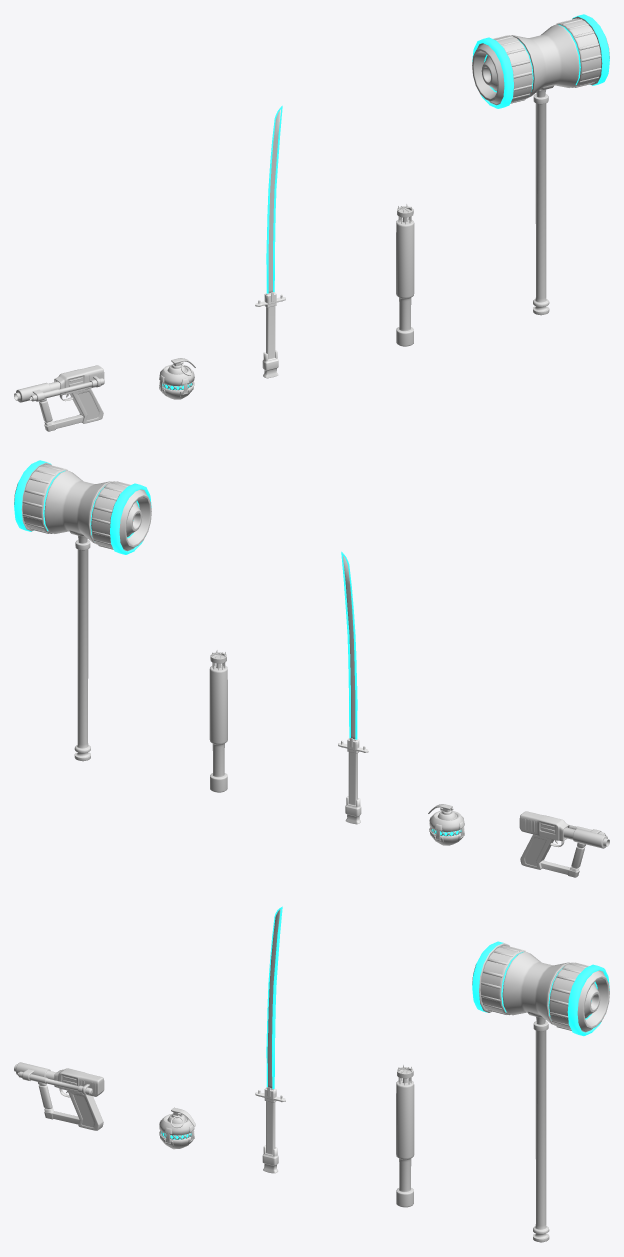
File: rpg_weapons.fbx
The picture shows the model from 3 angles, top to bottom: view 1: azimuth 30°, elevation 25°; view 2: azimuth 150°, elevation 25°; view 3: azimuth 330°, elevation 25°; orthographic projection.
Visible parts, largest first — view 1: Hammer_Head, Hammer_Handle, Hammer_Accents, Baton, LaserGun_Base, Katana_Handle, Katana_Outline, Katana_Blade, LaserGun_Barrel, Grenade; view 2: Hammer_Head, Hammer_Handle, Hammer_Accents, LaserGun_Base, Baton, Katana_Handle, Katana_Outline, Katana_Blade, Grenade, LaserGun_Barrel; view 3: Hammer_Head, Hammer_Handle, Hammer_Accents, Baton, LaserGun_Base, Katana_Handle, Katana_Outline, Katana_Blade, Grenade, LaserGun_Barrel.
Boxes of the visible parts, left/top/right/bottom form: Hammer_Head: left=472, top=18, right=609, bottom=105; Hammer_Handle: left=533, top=89, right=549, bottom=315; Hammer_Accents: left=472, top=14, right=609, bottom=108; Baton: left=396, top=206, right=414, bottom=346; LaserGun_Base: left=38, top=365, right=104, bottom=431; Katana_Handle: left=255, top=292, right=285, bottom=378; Katana_Outline: left=266, top=105, right=282, bottom=293; Katana_Blade: left=268, top=109, right=280, bottom=293; LaserGun_Barrel: left=14, top=378, right=104, bottom=402; Grenade: left=159, top=364, right=194, bottom=399; Hammer_Head: left=14, top=464, right=151, bottom=551; Hammer_Handle: left=74, top=535, right=90, bottom=761; Hammer_Accents: left=14, top=460, right=151, bottom=554; LaserGun_Base: left=519, top=811, right=585, bottom=877; Baton: left=209, top=652, right=227, bottom=792; Katana_Handle: left=338, top=738, right=368, bottom=824; Katana_Outline: left=341, top=551, right=357, bottom=739; Katana_Blade: left=343, top=555, right=355, bottom=739; Grenade: left=429, top=810, right=464, bottom=845; LaserGun_Barrel: left=563, top=825, right=609, bottom=848; Hammer_Head: left=472, top=945, right=609, bottom=1032; Hammer_Handle: left=533, top=1017, right=549, bottom=1242; Hammer_Accents: left=472, top=941, right=609, bottom=1036; Baton: left=396, top=1067, right=414, bottom=1207; LaserGun_Base: left=38, top=1068, right=104, bottom=1130; Katana_Handle: left=255, top=1087, right=285, bottom=1173; Katana_Outline: left=266, top=906, right=282, bottom=1089; Katana_Blade: left=267, top=909, right=280, bottom=1088; Grenade: left=159, top=1113, right=194, bottom=1149; LaserGun_Barrel: left=14, top=1062, right=92, bottom=1094.
Bounding box in the file's own units: 7.5 × 3.52 × 0.7865.
